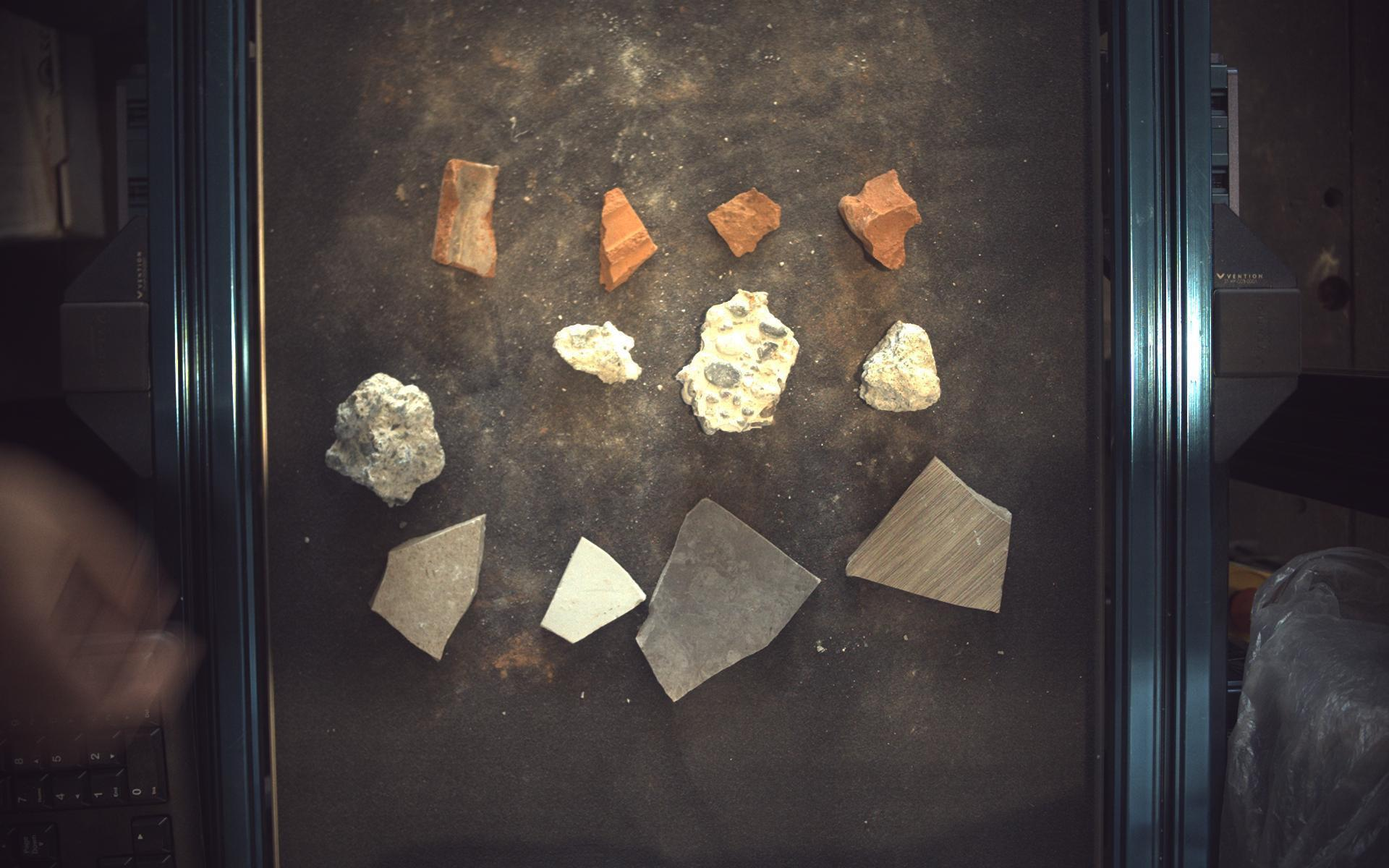brick: (841, 169, 923, 269), (432, 158, 499, 277), (600, 187, 658, 291), (709, 187, 781, 256)
concrete: (677, 289, 800, 435), (325, 373, 445, 507), (860, 320, 943, 412), (554, 322, 643, 383)
tile: (637, 499, 821, 702), (847, 457, 1014, 613), (371, 516, 485, 660), (542, 537, 647, 644)
